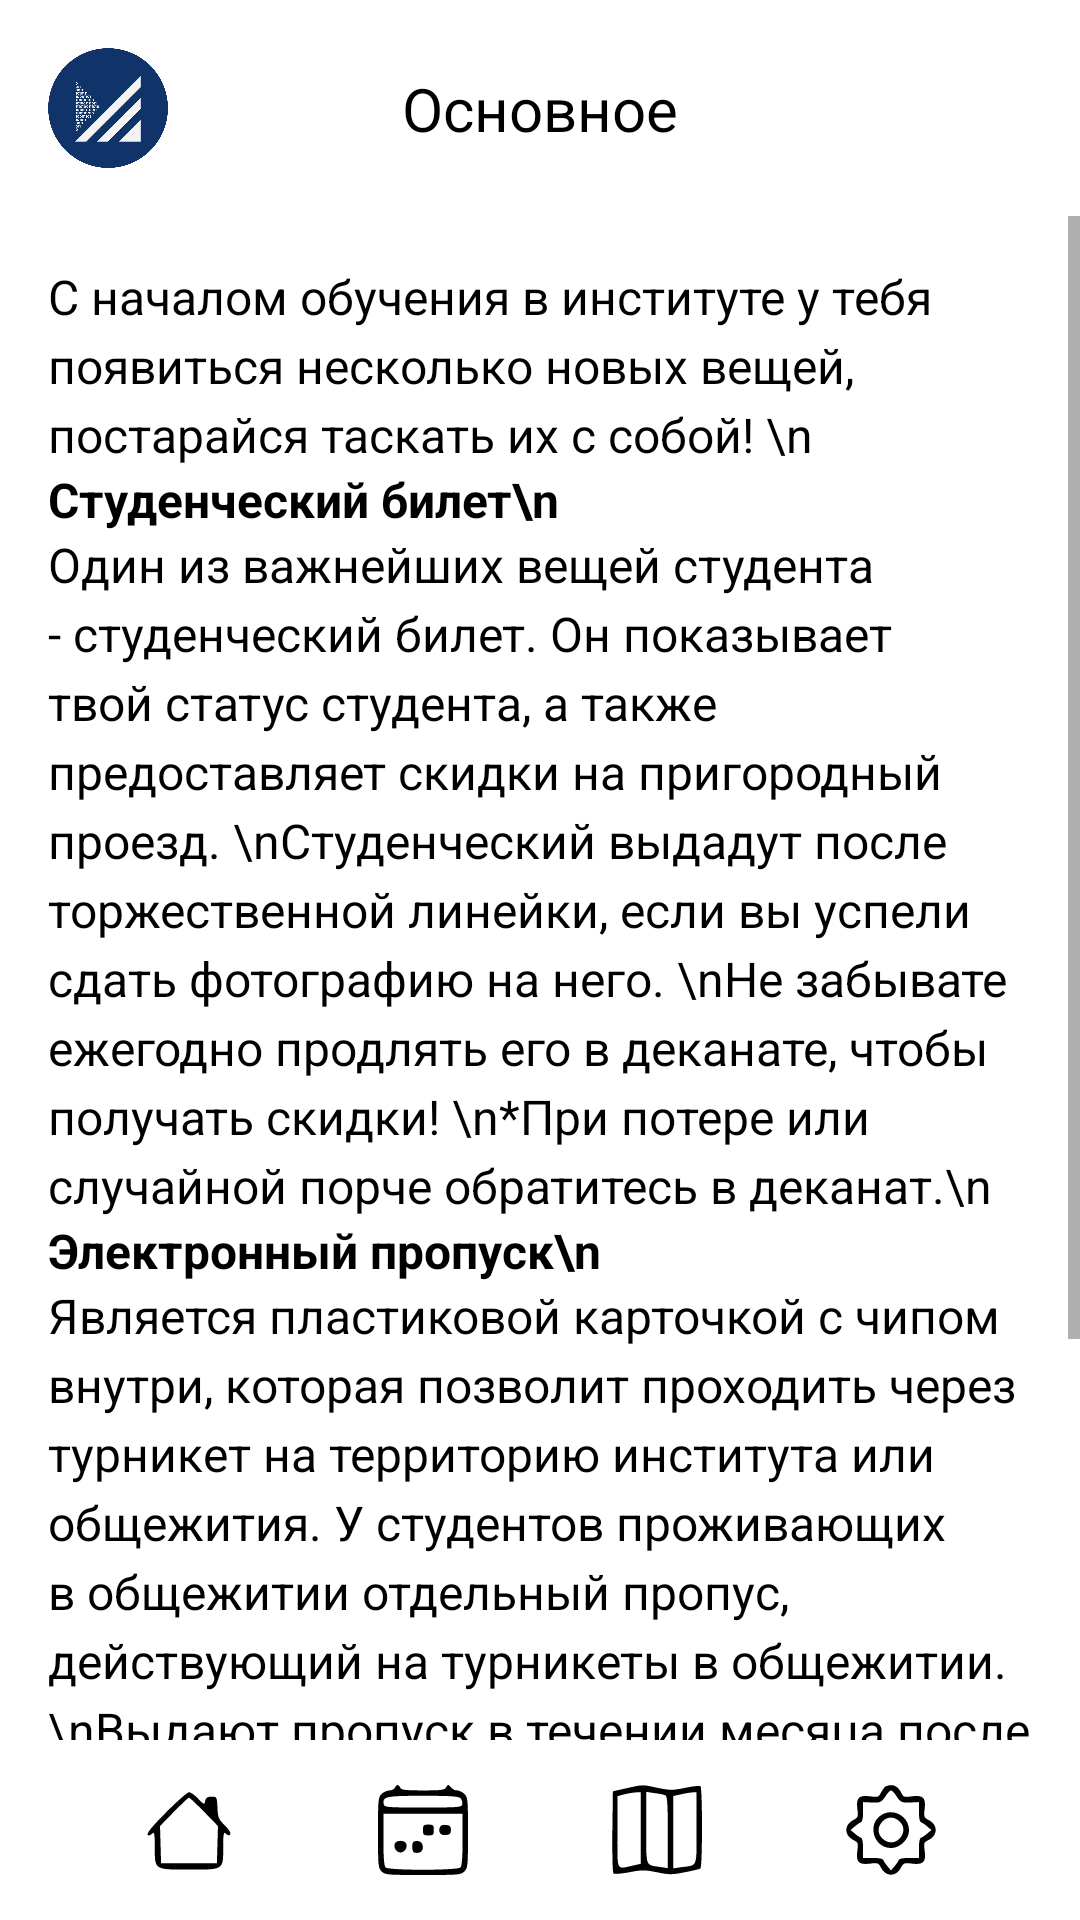

Locate icon controls on the screen. Image size 1080w x 1920h, boxes as bbox=(x1, y1, x2, y2).
calendar: bbox=(378, 1785, 468, 1875)
home: bbox=(147, 1792, 231, 1870)
map: bbox=(612, 1785, 702, 1875)
settings: bbox=(846, 1785, 936, 1875)
